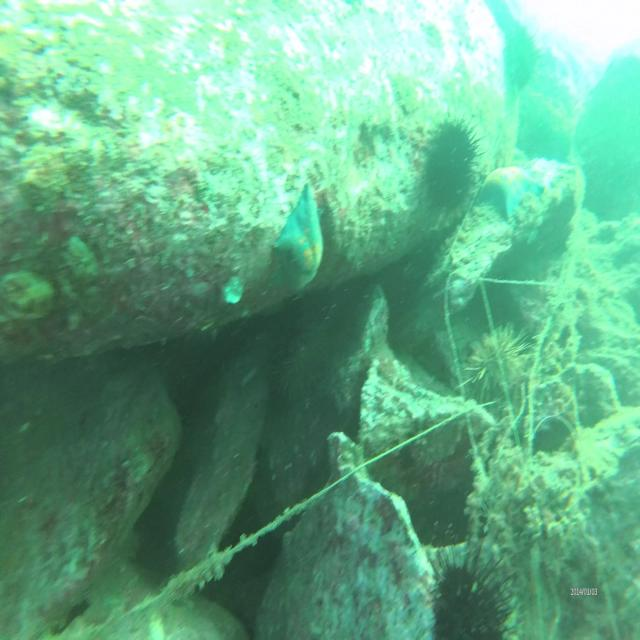echinus: (428, 544, 510, 640), (425, 116, 475, 213), (472, 324, 522, 401)
starfish: (273, 183, 325, 301), (476, 164, 544, 218)
